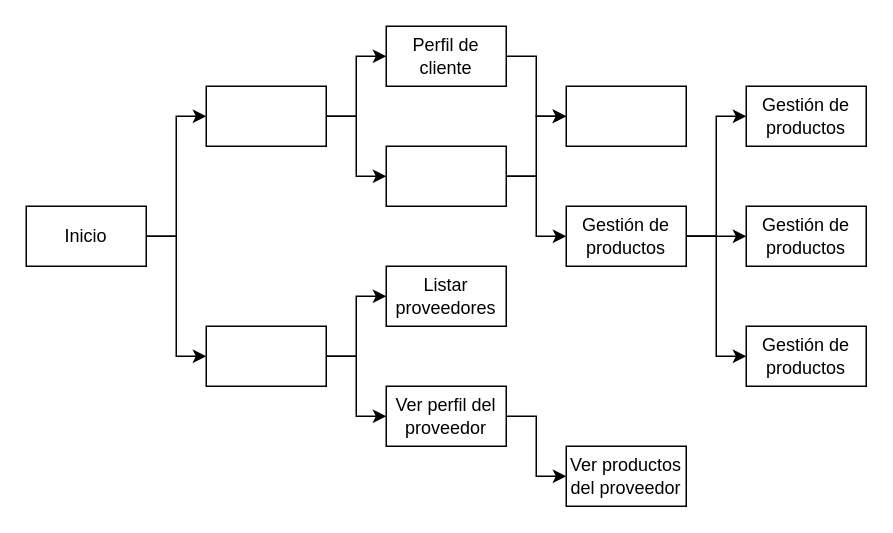
Image size: 893x533. Some labels were removed from this diagram. Each missing label, with the centre of its shape:
Actualización de datos: (625,115)
Panel de clientes: (265,355)
Perfil de proveedor: (445,175)
Registro de usuarios: (265,115)
